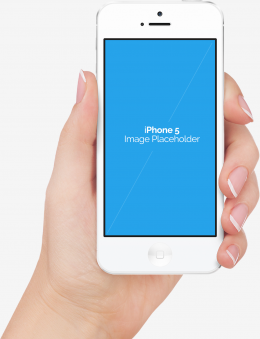phone: (40, 1, 260, 306)
